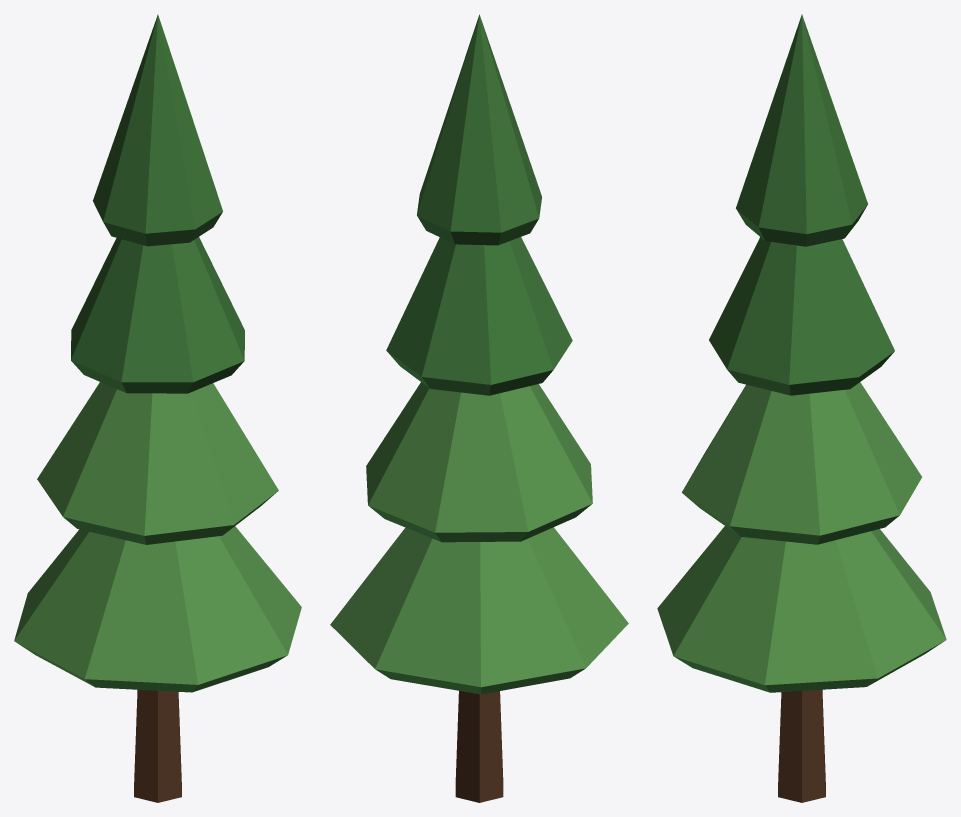
Rendered from tree_pineDefaultA.glb.
3 renders of one model, left to right at view 1: azimuth 30°, elevation 25°; view 2: azimuth 150°, elevation 25°; view 3: azimuth 270°, elevation 25°, orthographic.
Visible parts, largest first — view 1: tree_pineDefaultA; view 2: tree_pineDefaultA; view 3: tree_pineDefaultA.
Part boxes in pixels (x1,y1,x2,y2): tree_pineDefaultA: (14, 14, 301, 802); tree_pineDefaultA: (330, 14, 628, 802); tree_pineDefaultA: (657, 14, 946, 802).
Size of the model in its own units: 0.5231 by 1.55 by 0.5231.
1 material, 1 textured.
